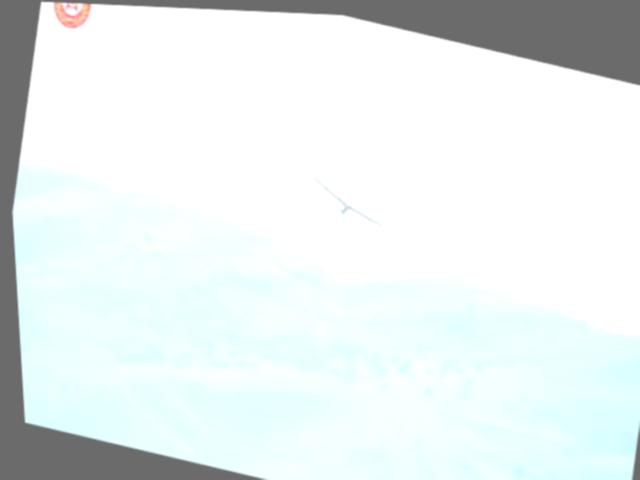uav: (303, 172, 388, 225)
